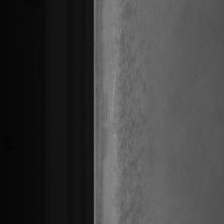silk_spot: (114, 30, 148, 210)
